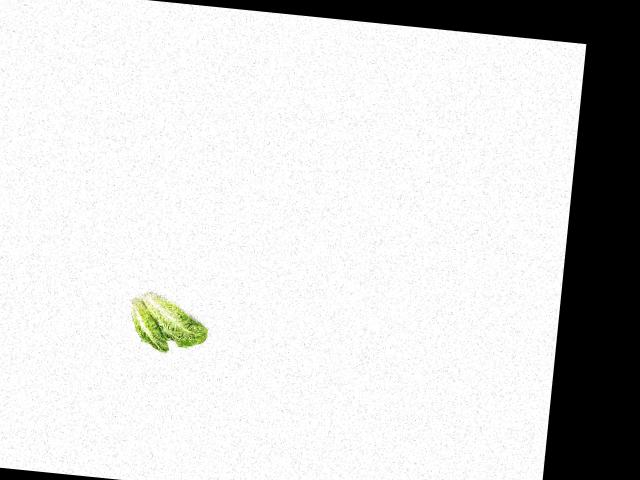lettuce: (142, 288, 211, 352)
